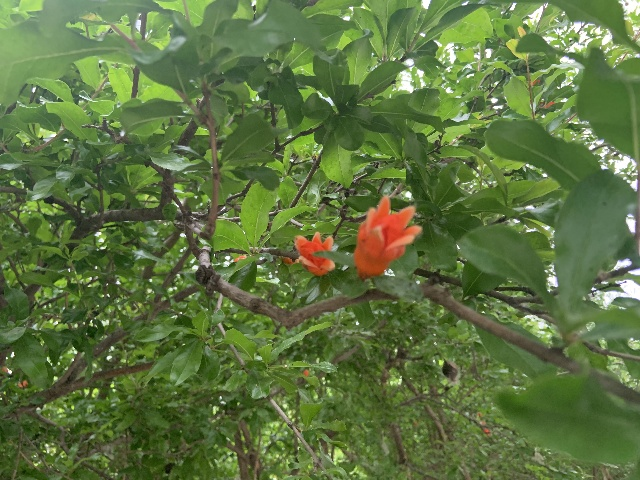bud: (282, 256, 299, 264)
flower: (353, 195, 422, 280), (294, 231, 335, 275)
